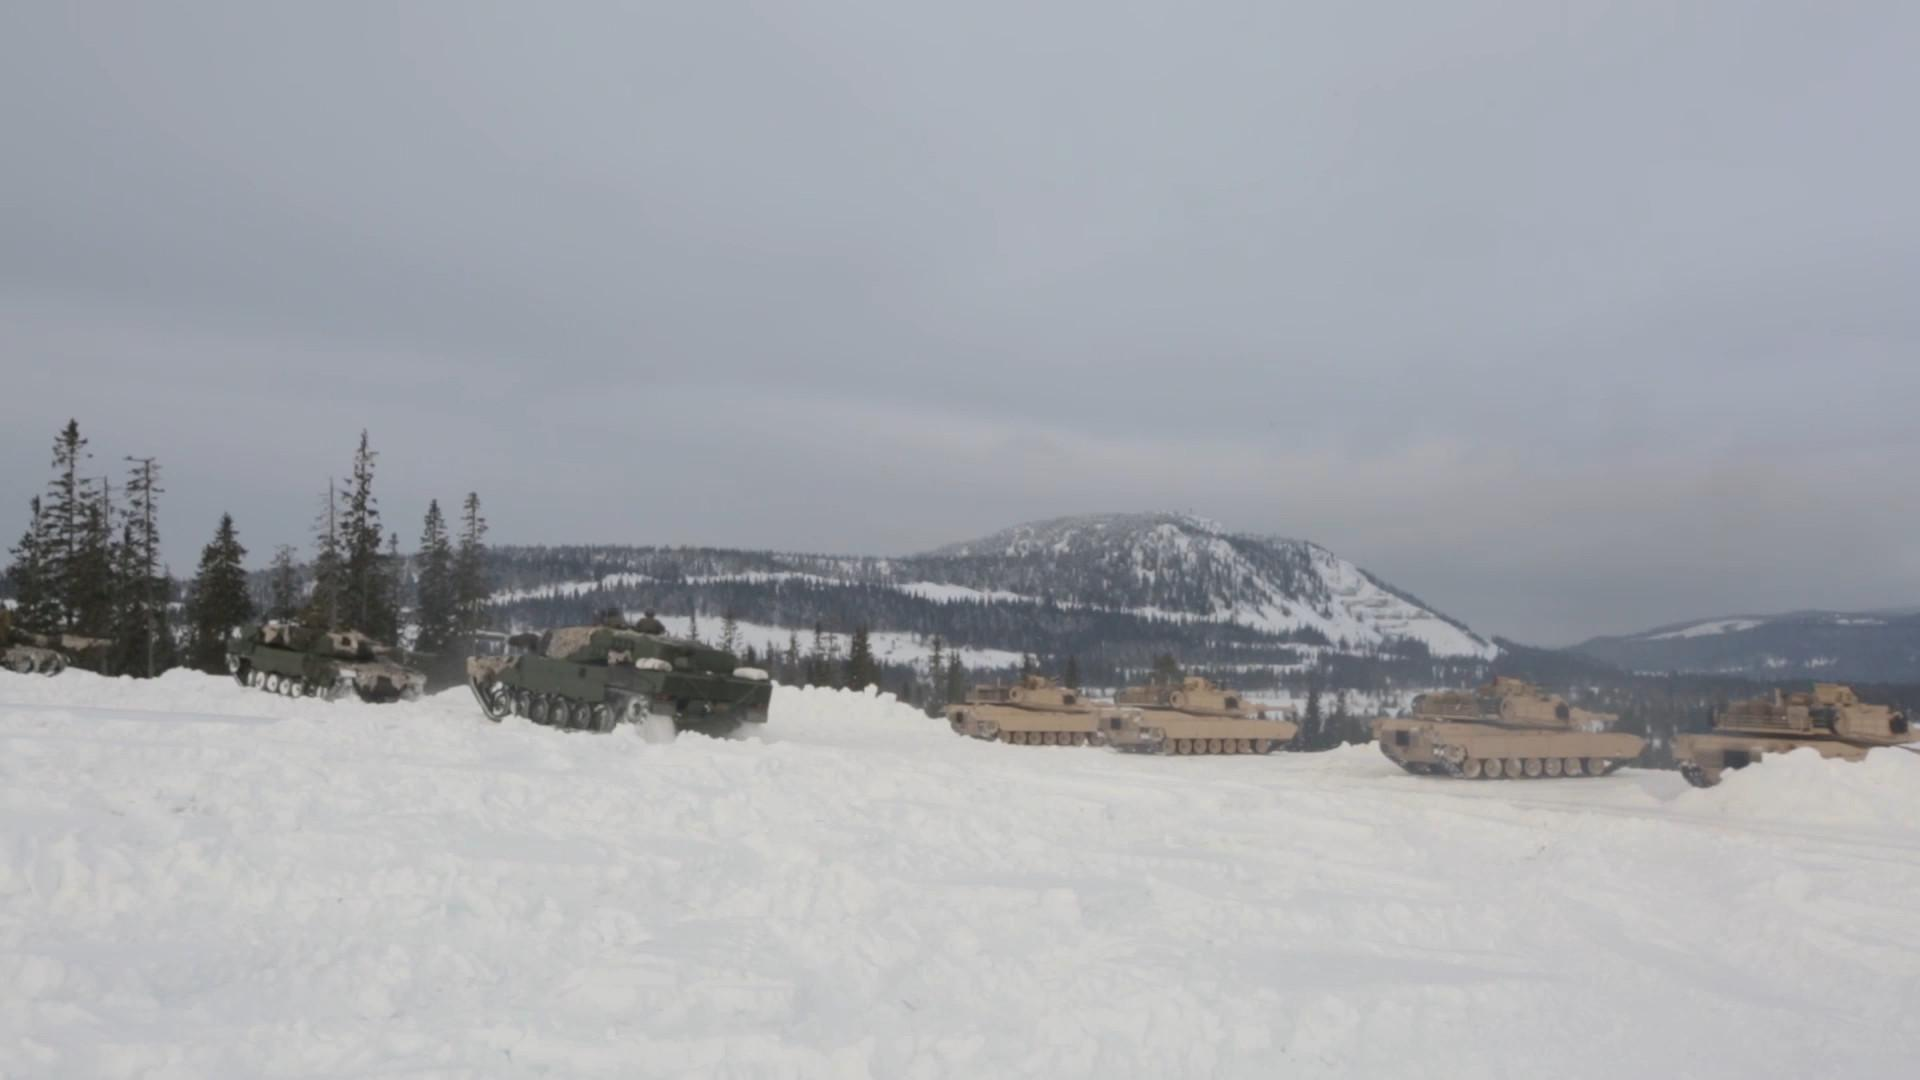tank: (460, 608, 771, 737), (1381, 688, 1648, 781), (225, 618, 439, 702), (1112, 678, 1299, 756), (945, 674, 1102, 742)
